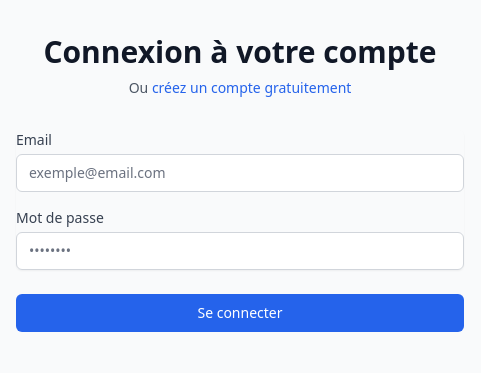
Test: Login Page › affiche les champs du formulaire avec validation
The image size is (481, 373).
Check: the field labelled "Email" is shown, box [16, 154, 464, 192]
Check: the password field labelled "Mot de passe" is shown, box [16, 232, 464, 270]
Soumettre le formulaire sans remplir les champs
Click the button "Se connecter".
click(240, 313)  # box [16, 294, 464, 332]
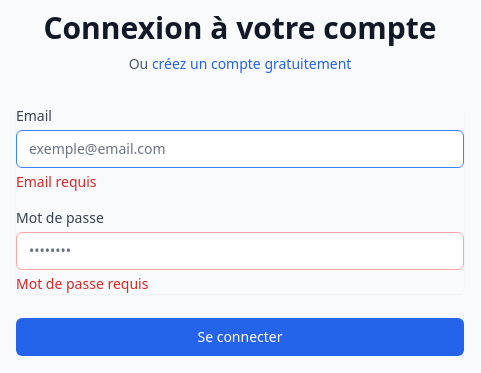
Check: the text "Email requis" is shown, box [16, 172, 97, 191]
Check: the text "Mot de passe requis" is shown, box [16, 274, 148, 293]
Remplir l'email avec un format invalide
Type "invalid-email" into the field labelled "Email".
click(240, 149); type("invalid-email")  # box [16, 130, 464, 168]
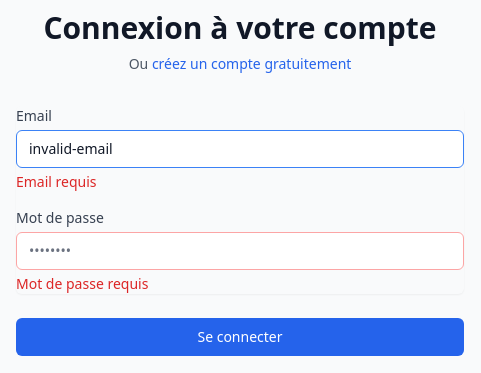
Remplir le mot de passe avec une valeur trop courte
Type "12345" into the password field labelled "Mot de passe".
click(240, 251); type("12345")  # box [16, 232, 464, 270]
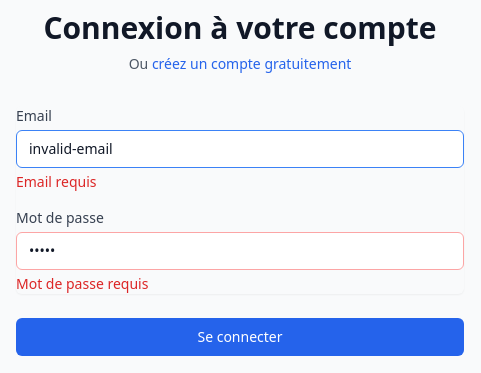
Soumettre à nouveau
Click the button "Se connecter".
click(240, 337)  # box [16, 318, 464, 356]
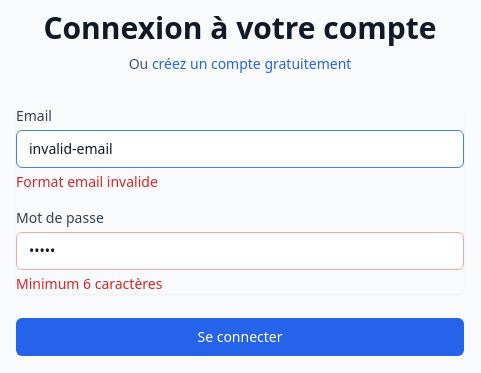
Check: the text "Format email invalide" is shown, box [16, 172, 158, 191]
Check: the text "Minimum 6 caractères" is shown, box [16, 274, 162, 293]
